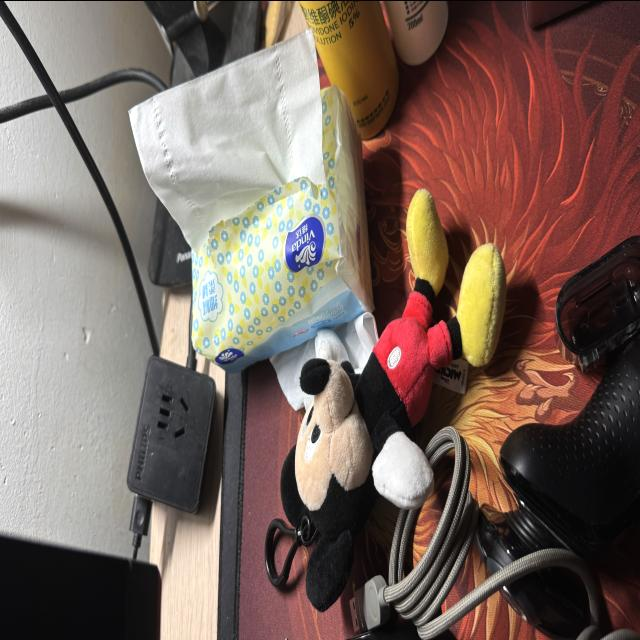mickey: (281, 190, 505, 610)
tissue: (131, 32, 372, 370)
